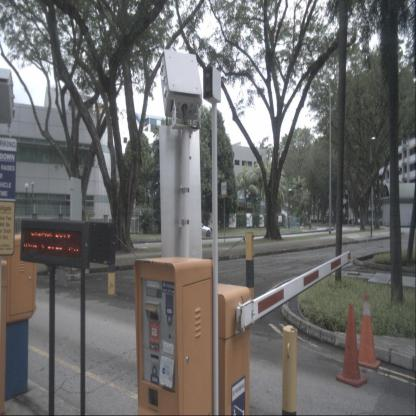cone: (336, 303, 368, 388), (355, 292, 382, 369)
